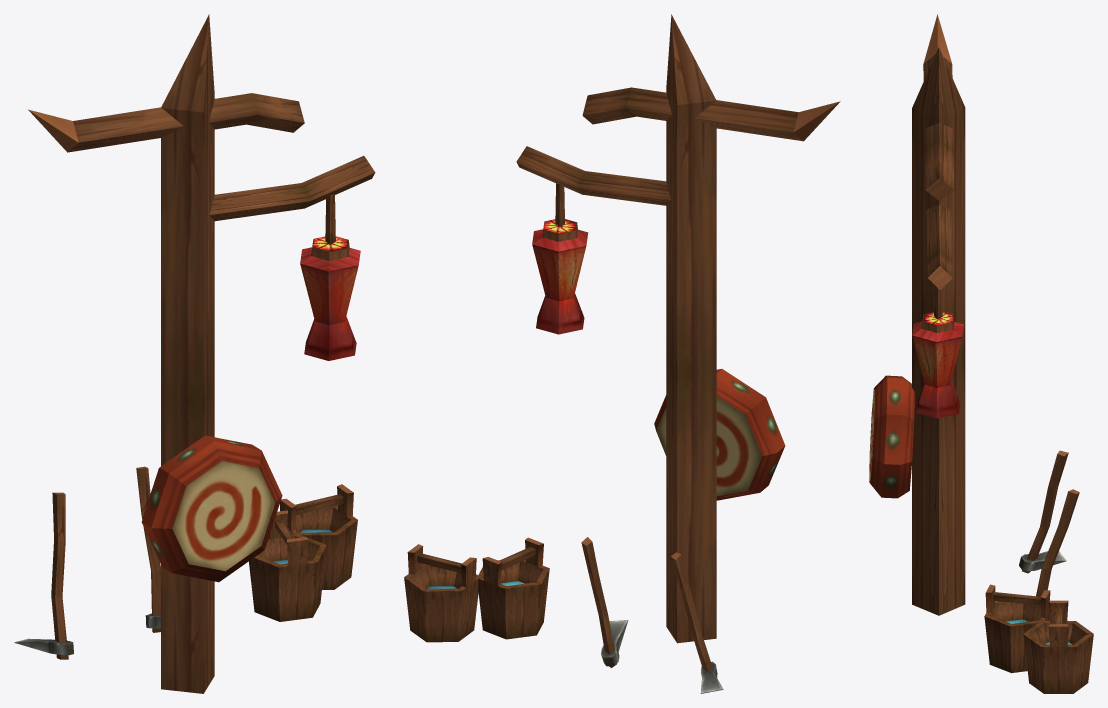
The model's file is cunlou_xiaowujian14.FBX.
3 views of the same model, side by side, from view 1: azimuth 30°, elevation 25°; view 2: azimuth 150°, elevation 25°; view 3: azimuth 270°, elevation 25° (orthographic). The views are drawn at different scales.
Parts seen in each view (by area): view 1: cunlou_xiaowujian14; view 2: cunlou_xiaowujian14; view 3: cunlou_xiaowujian14.
Part boxes in pixels (x1,y1,x2,y2): cunlou_xiaowujian14: (14, 14, 375, 693); cunlou_xiaowujian14: (404, 14, 840, 693); cunlou_xiaowujian14: (869, 14, 1093, 693).
Size of the model in its own units: 266 by 431 by 155.
